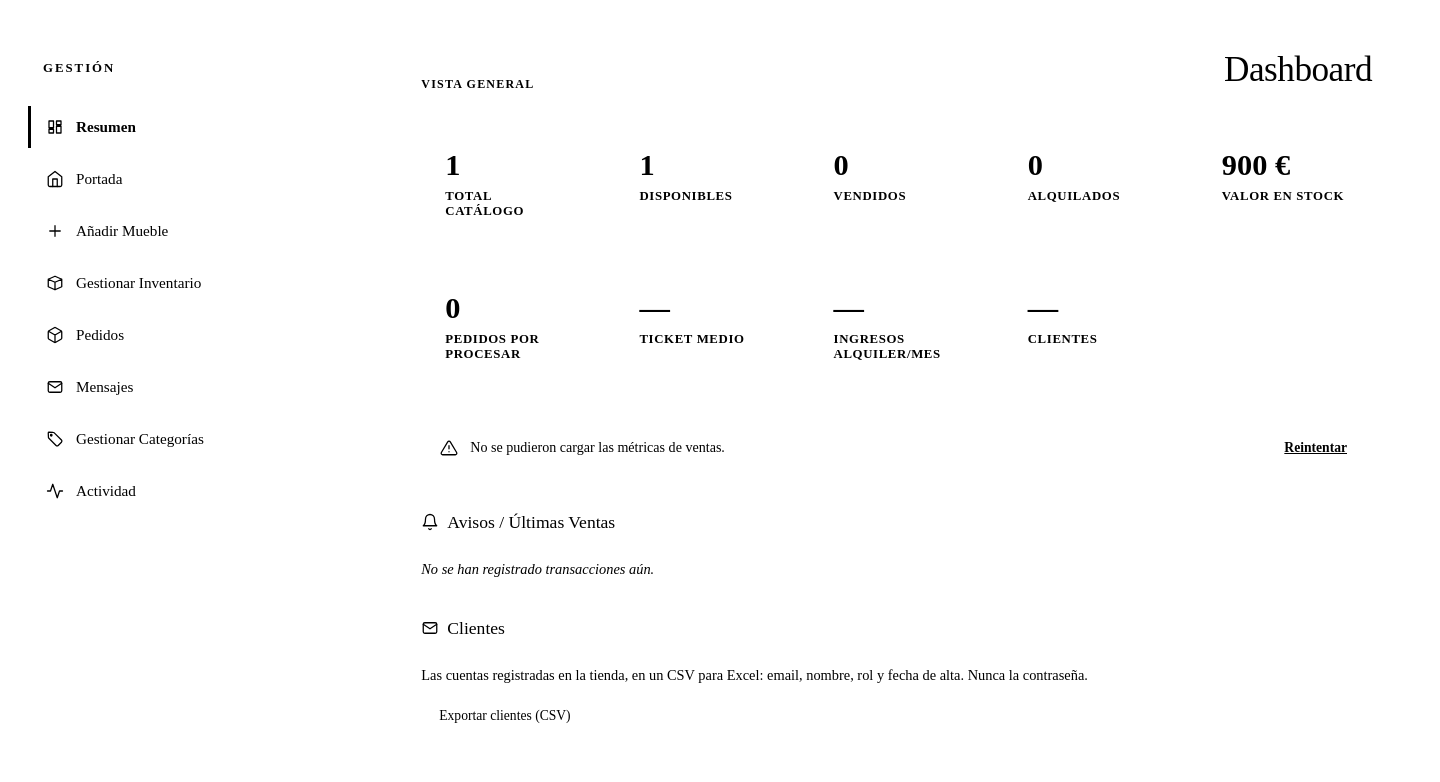
Modal de edición de mueble — al abrir › "Cerrar" cierra el modal sin guardar
The width and height of the screenshot is (1440, 782).
Step 1. Click the button "Gestionar Inventario" → [185, 283], box [28,262,341,304]
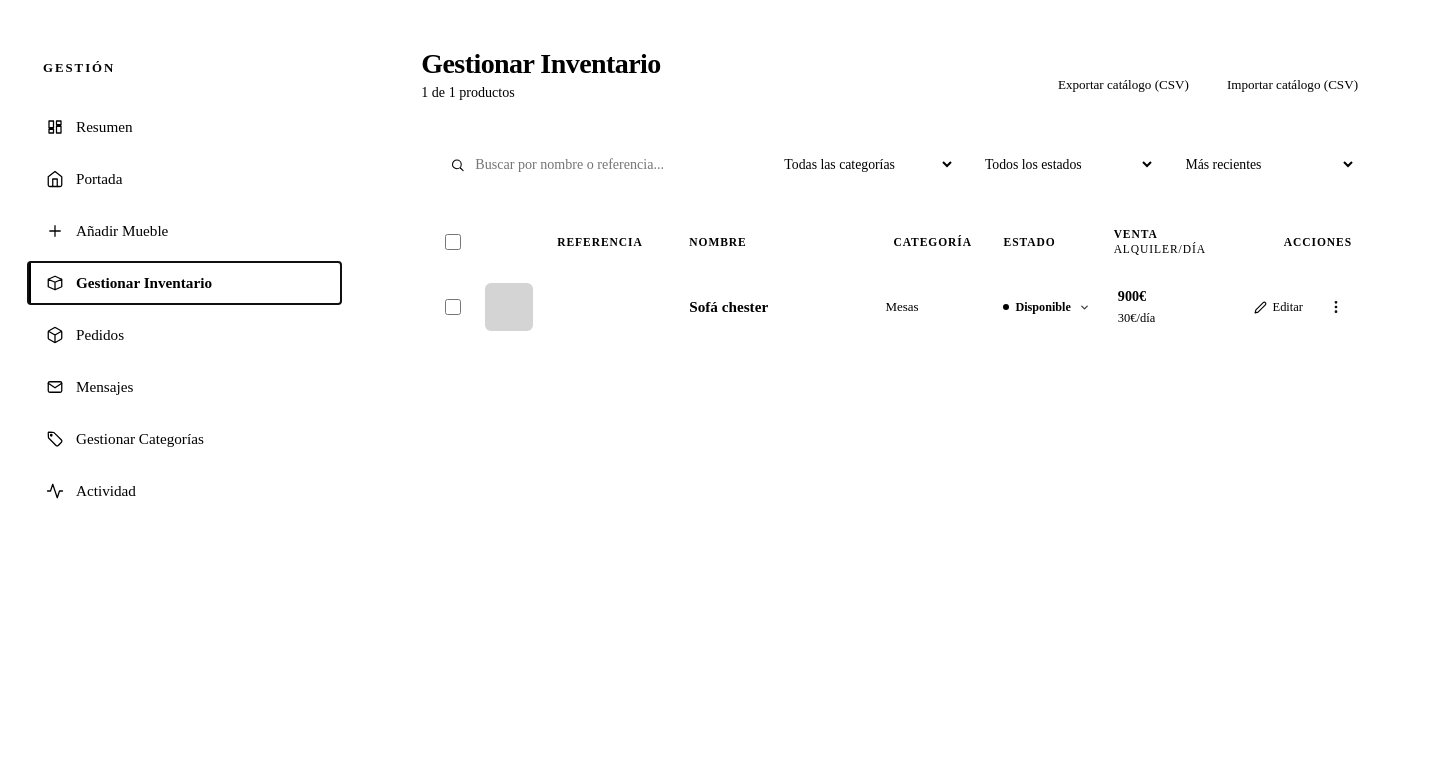
Step 2. Click the button "Editar" → [1278, 307], box [1242,294,1314,320]
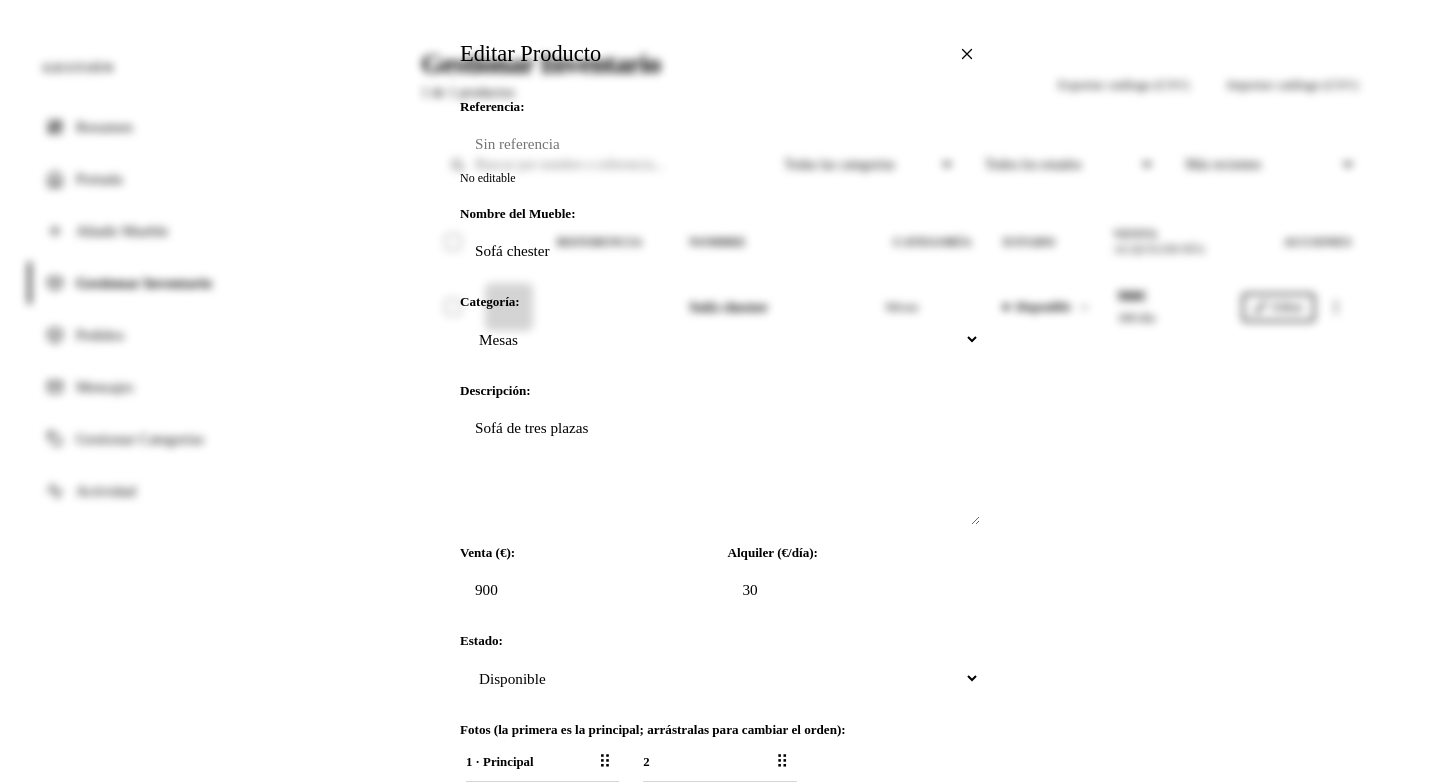
Step 3. Click the button named "Cerrar" → [967, 54], box [954,40,980,66]
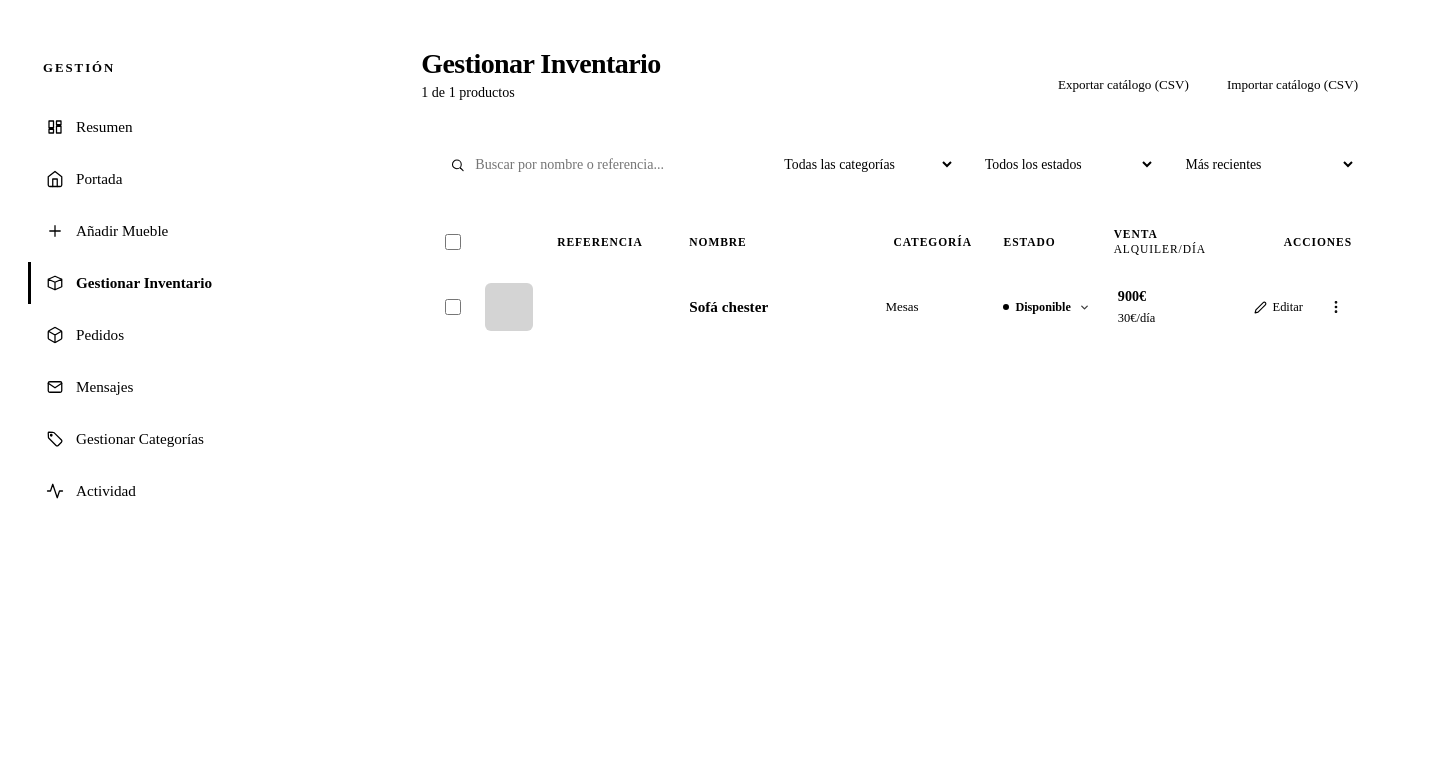
Now the heading "Editar Producto" is gone
